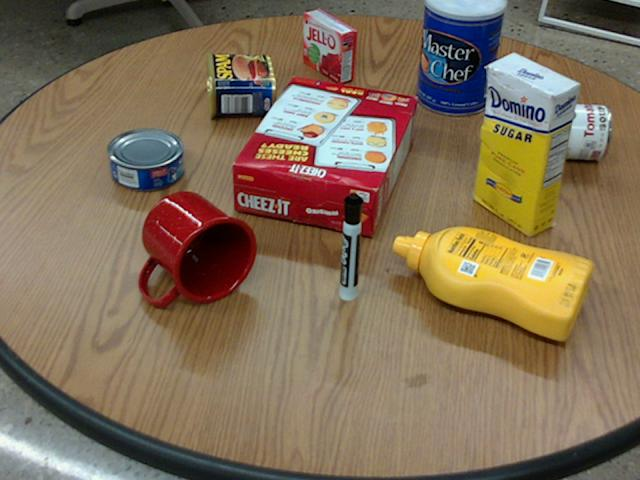cracker_box: (231, 78, 416, 236)
gelatin_box: (303, 8, 355, 82)
large_marker: (338, 192, 362, 300)
master_chef_can: (416, 0, 505, 114)
mug: (137, 191, 255, 303)
mustard_bottle: (392, 226, 591, 339)
potted_meat_can: (206, 51, 274, 116)
sugar_box: (475, 53, 577, 236)
tomato_soup_can: (513, 100, 608, 158)
tuna_fish_can: (106, 127, 182, 189)
